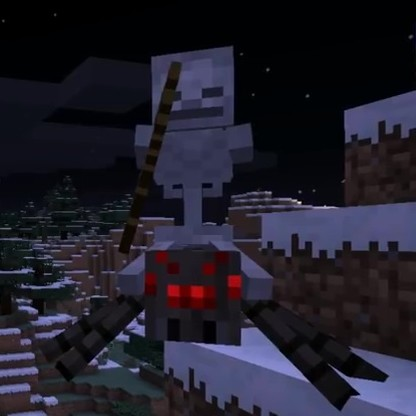skeleton: (132, 43, 253, 246)
